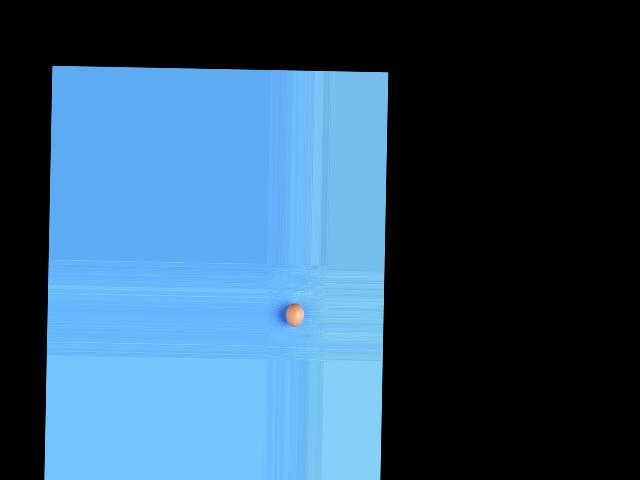egg: (284, 303, 304, 326)
